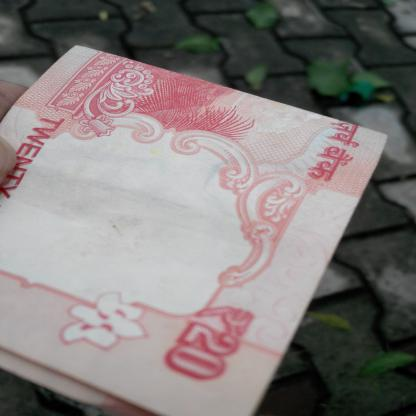Old20Back: (0, 50, 365, 415)
